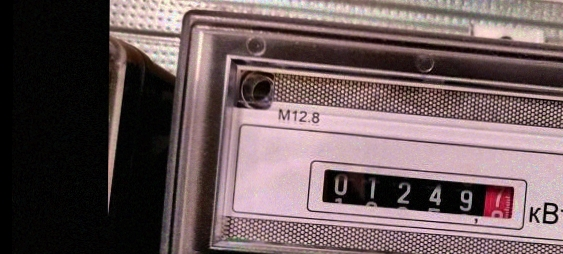0: (333, 170, 350, 196)
1: (365, 173, 379, 199)
2: (395, 179, 412, 205)
4: (428, 181, 444, 206)
7: (492, 182, 507, 208)
9: (457, 186, 474, 212)
screen: (306, 158, 531, 232)
